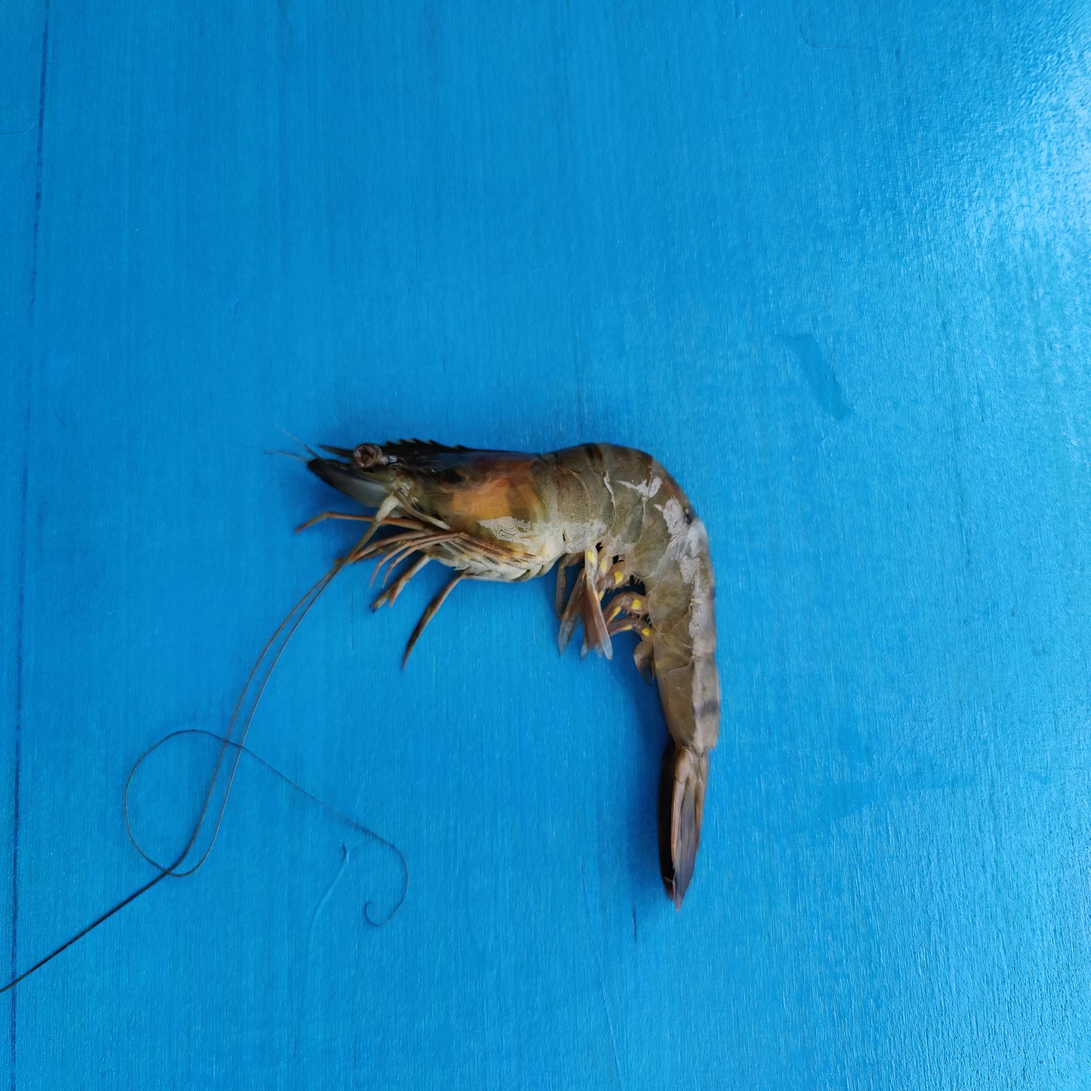blackgill: (404, 488, 544, 552)
